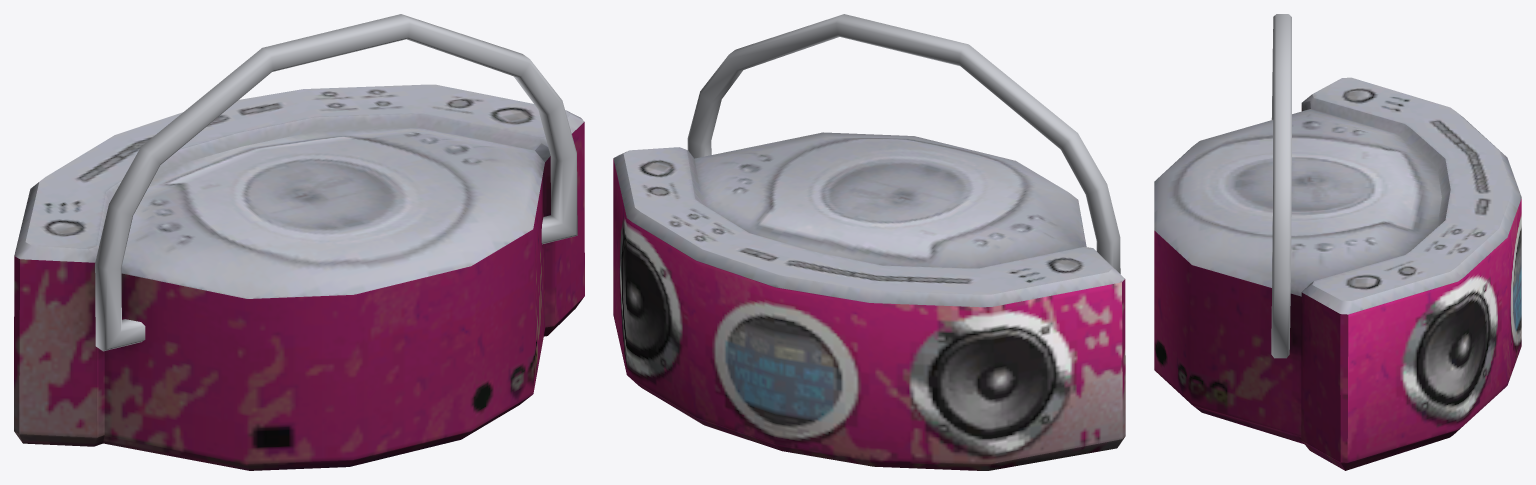
The model's file is furni_0200442.FBX.
The picture shows the model from 3 angles, left to right: view 1: azimuth 30°, elevation 25°; view 2: azimuth 150°, elevation 25°; view 3: azimuth 270°, elevation 25°; orthographic projection. The views are drawn at different scales.
Visible parts, largest first — view 1: furni_0200442; view 2: furni_0200442; view 3: furni_0200442.
Boxes of the visible parts, x1,y1,x2,y2 form: furni_0200442: (14, 14, 584, 470); furni_0200442: (613, 14, 1125, 470); furni_0200442: (1154, 14, 1521, 470).
Size of the model in its own units: 44.84 by 27.93 by 29.68.
